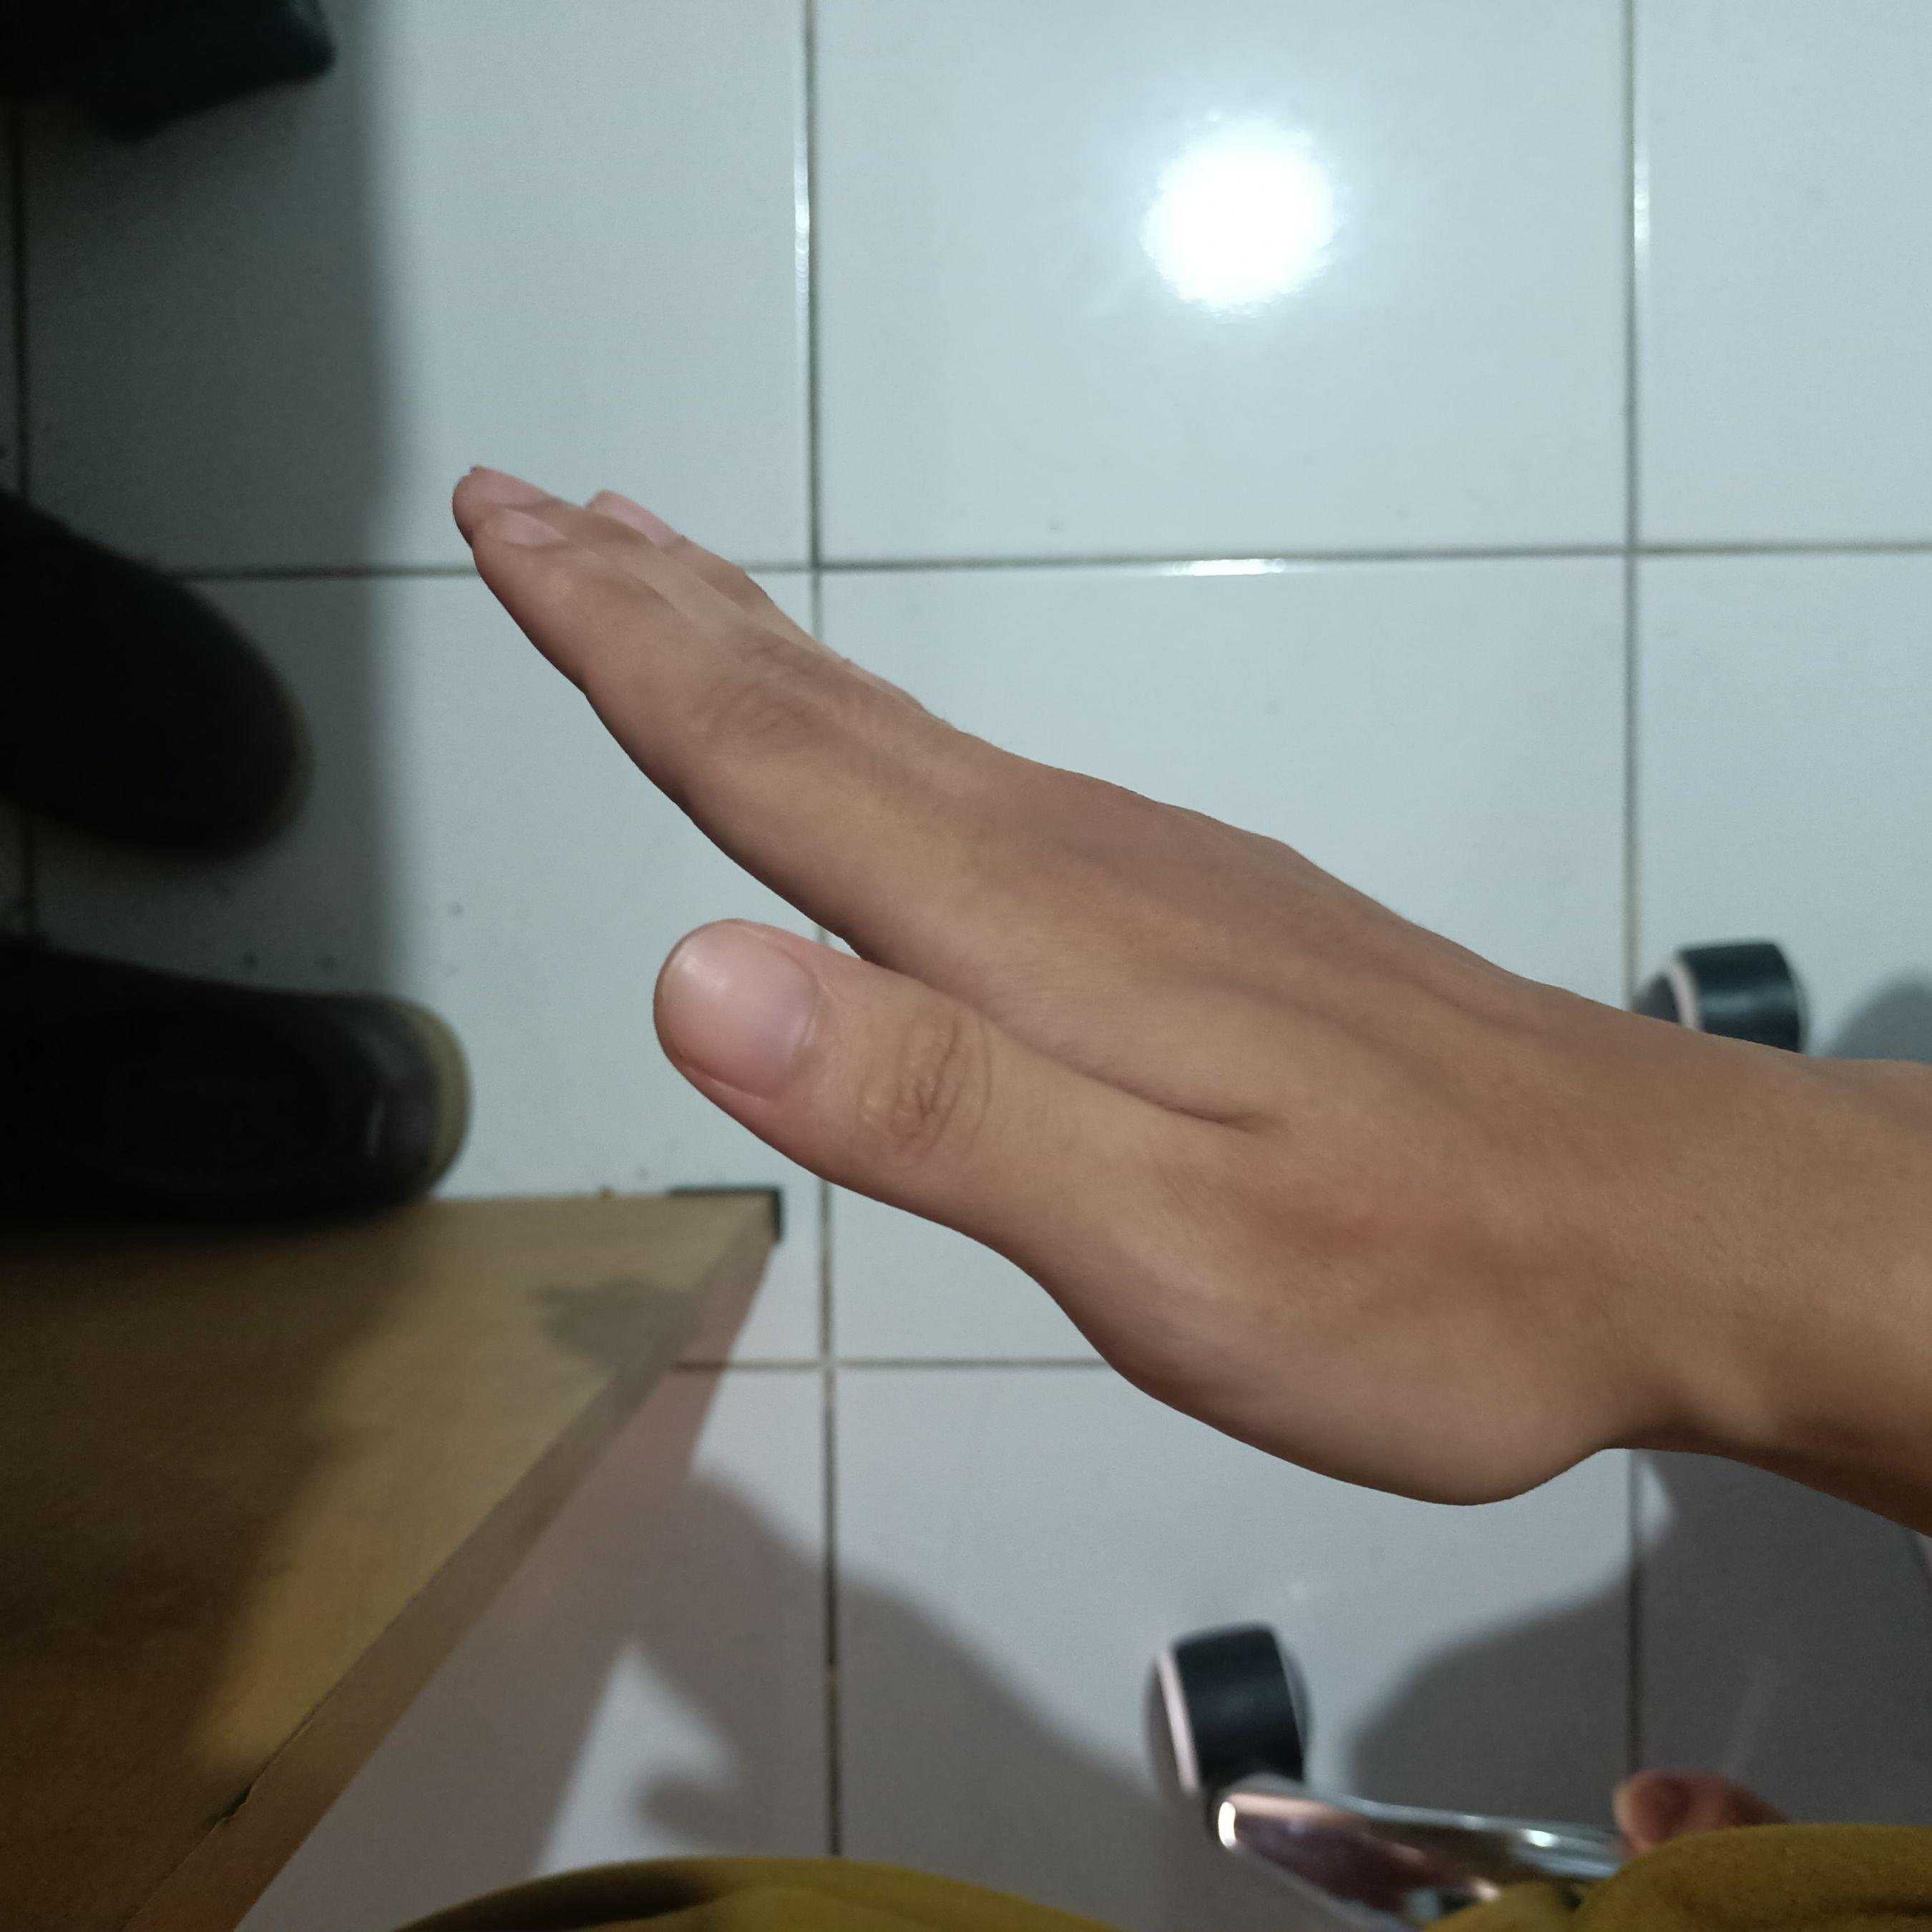paper: (432, 430, 1707, 1527)
